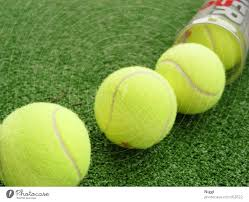tennis_ball: (1, 101, 92, 187), (94, 65, 178, 150), (155, 42, 227, 115), (182, 20, 240, 73)
